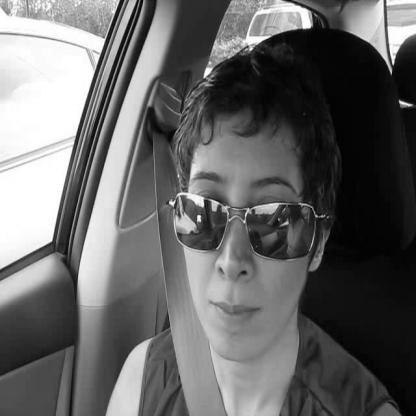seatbelt: (132, 34, 344, 416)
